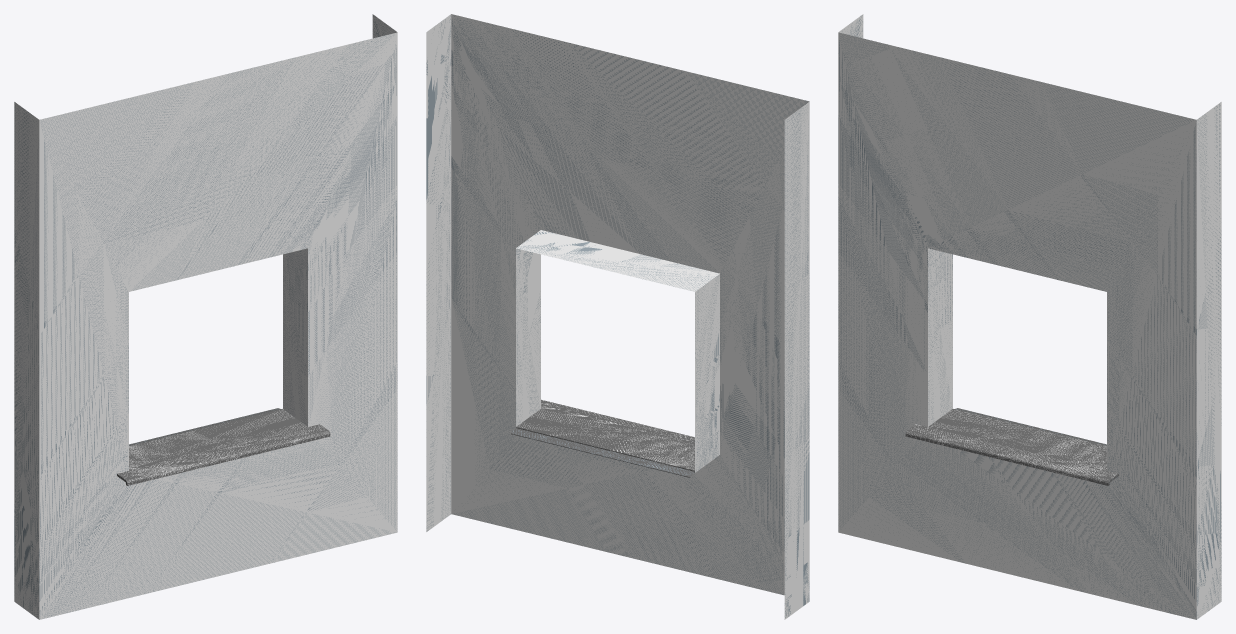
Rendered from WindowBlock_os_[300x400]_150x143x[100].dae.
The picture shows the model from 3 angles, left to right: view 1: azimuth 30°, elevation 25°; view 2: azimuth 150°, elevation 25°; view 3: azimuth 330°, elevation 25°; orthographic projection.
Visible parts, largest first — view 1: group_2 (×2), group_1; view 2: group_2 (×2), group_1 (×2); view 3: group_2 (×2), group_1.
Part boxes in pixels (<box>): group_2 (×2): <box>14,14,397,619</box>; group_1: <box>117,409,330,485</box>; group_2 (×2): <box>426,14,809,619</box>; group_1 (×2): <box>511,399,694,477</box>; group_2 (×2): <box>838,14,1221,619</box>; group_1: <box>905,409,1118,485</box>.
Size of the model in its own units: 118 by 23.03 by 157.
